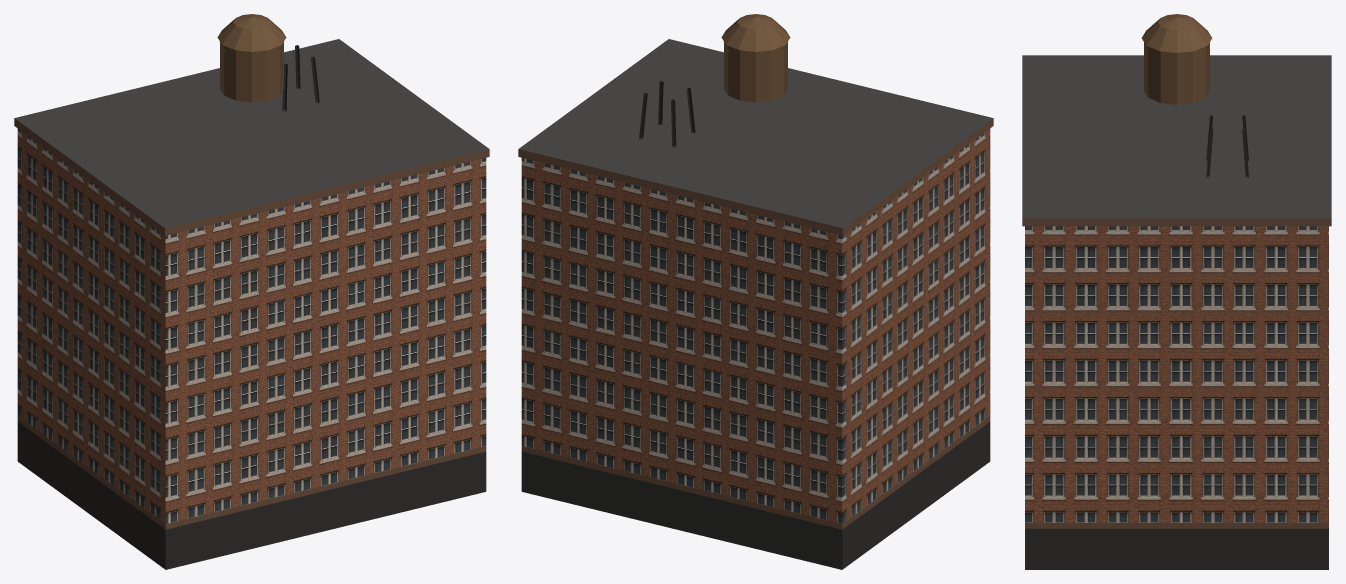
Rendered from gen_low2_warehouse.glb.
3 renders of one model, left to right at view 1: azimuth 30°, elevation 25°; view 2: azimuth 150°, elevation 25°; view 3: azimuth 270°, elevation 25°, orthographic. The views are drawn at different scales.
Parts seen in each view (by area): view 1: gen_low2_warehouse; view 2: gen_low2_warehouse; view 3: gen_low2_warehouse.
Boxes of the visible parts, x1=… form: gen_low2_warehouse: x1=14, y1=14, x2=489, y2=569; gen_low2_warehouse: x1=518, y1=14, x2=993, y2=569; gen_low2_warehouse: x1=1022, y1=14, x2=1331, y2=569.
Bounding box in the file's own units: 30.4 × 41.1 × 24.4.
Materials: 2 (2 with a texture image).
